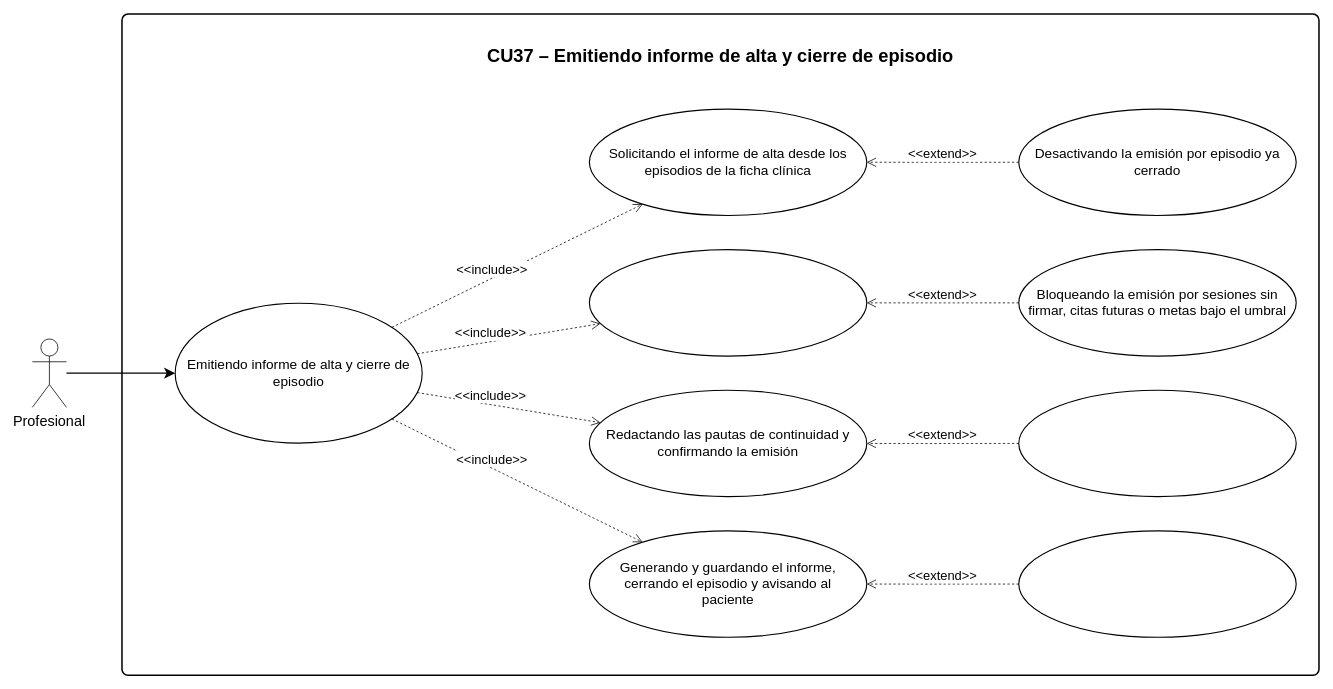
The diagram is 1333 pixels wide and 689 high, and some of its shapes have lost their labels. Here are the shapes that lost their labels. From the top down, the centre of each, then its label:
point 727,302: Consolidando las metas, las sesiones y las citas pendientes del episodio
point 1157,443: Ajustando redacción de la pauta
point 1157,583: Manteniendo el episodio abierto por fallo al guardar el informe
